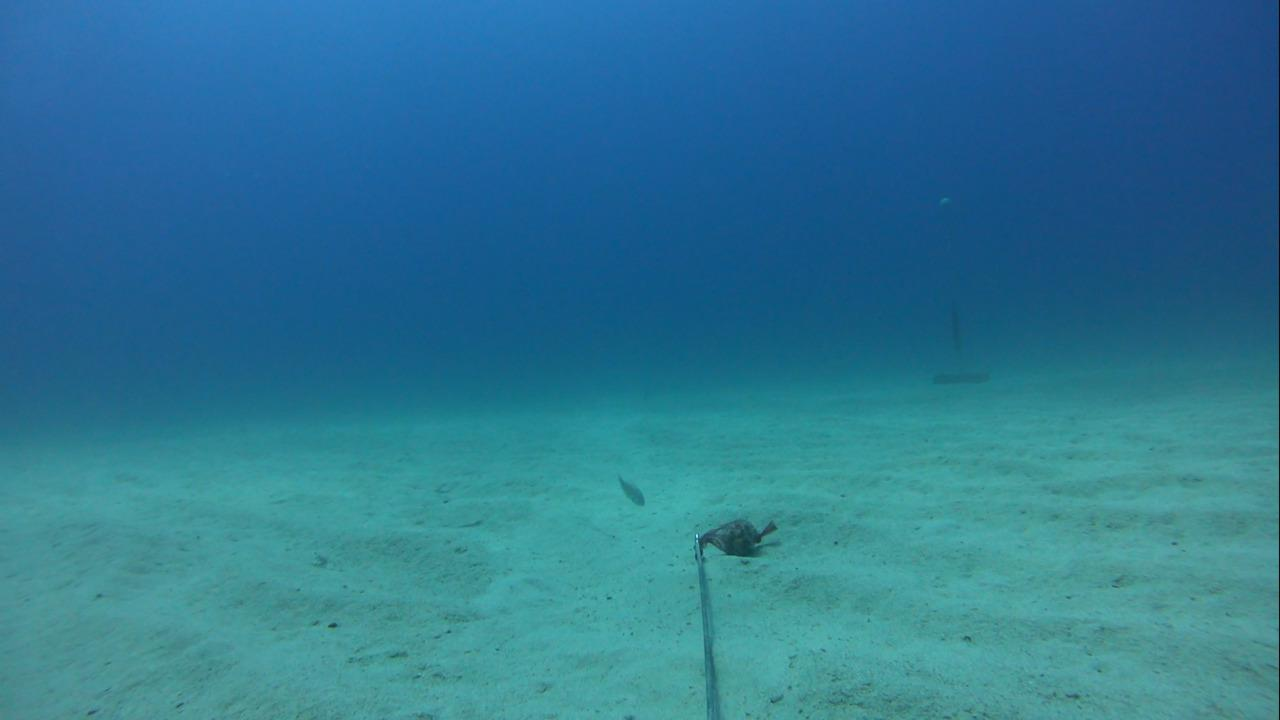raor: (607, 464, 651, 515)
